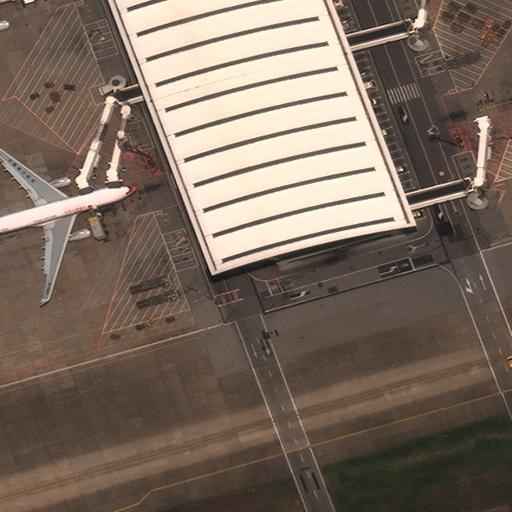Large Civil Transport: (0, 143, 136, 301), (0, 0, 39, 51)
